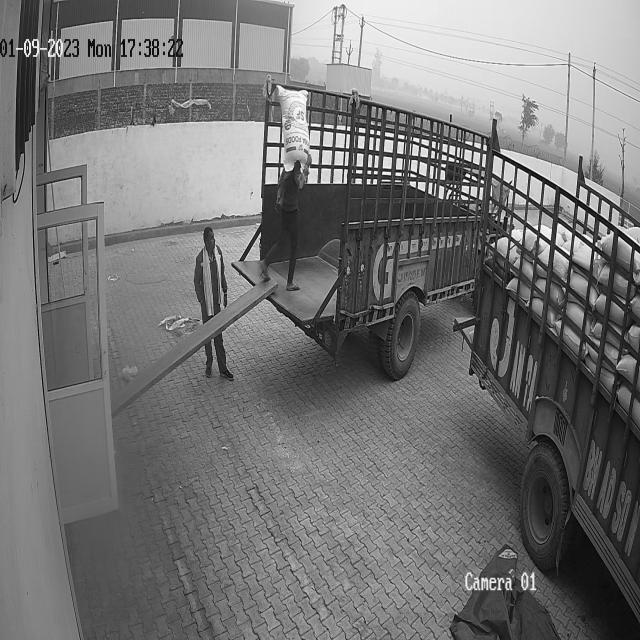sack: (276, 84, 309, 170)
